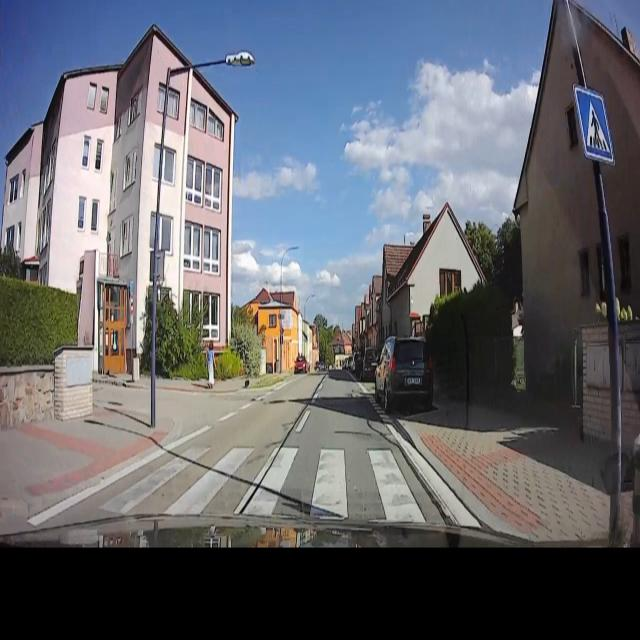Pedestrian crosswalk: (112, 437, 436, 528), (581, 92, 614, 157)
Person: (204, 337, 218, 389)
